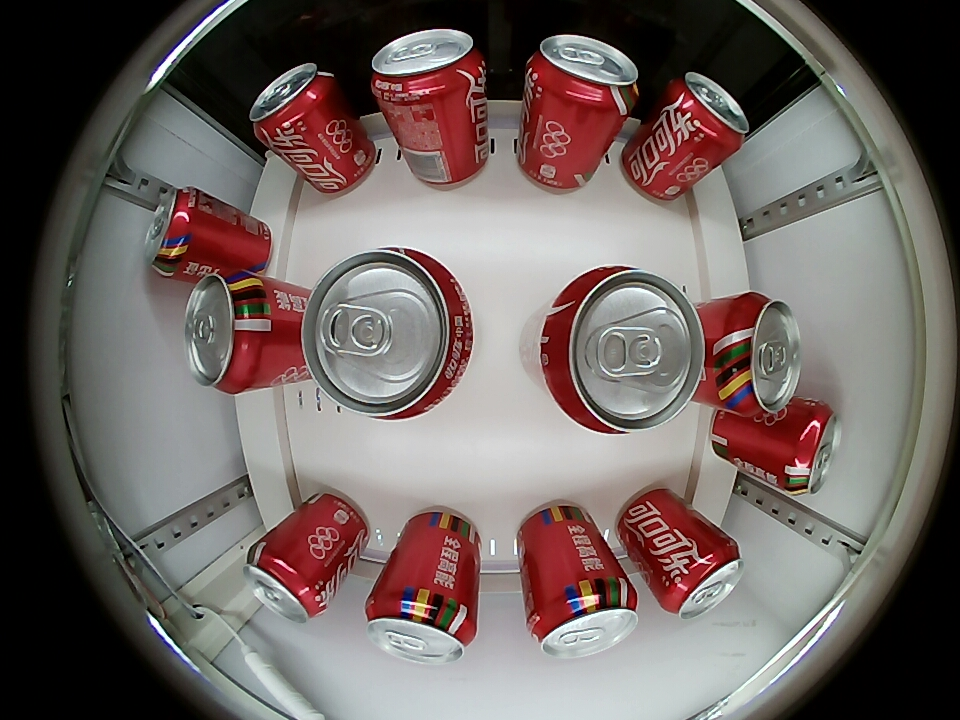kele: (302, 247, 473, 420), (540, 265, 707, 435), (184, 272, 268, 394), (720, 292, 803, 413), (528, 579, 639, 660), (365, 587, 479, 665), (529, 35, 640, 112), (370, 29, 484, 103), (658, 538, 745, 620), (250, 63, 337, 144), (244, 545, 327, 623), (669, 72, 749, 152), (776, 400, 840, 495), (144, 187, 206, 278)
